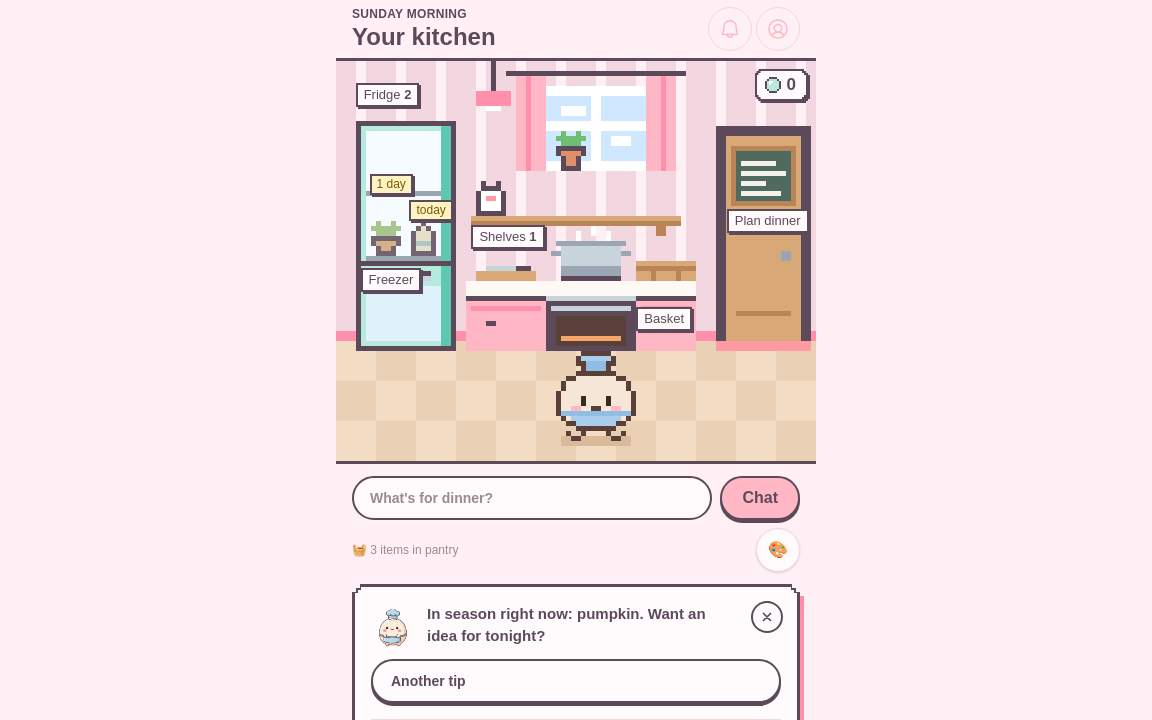
Test: "Used it" can be undone (#851) › without an undo, the write lands and the row stays gone
The image size is (1152, 720).
Click the button with aria-label "Fridge, 2 items".
click(406, 174)  # box [356,83,456,266]
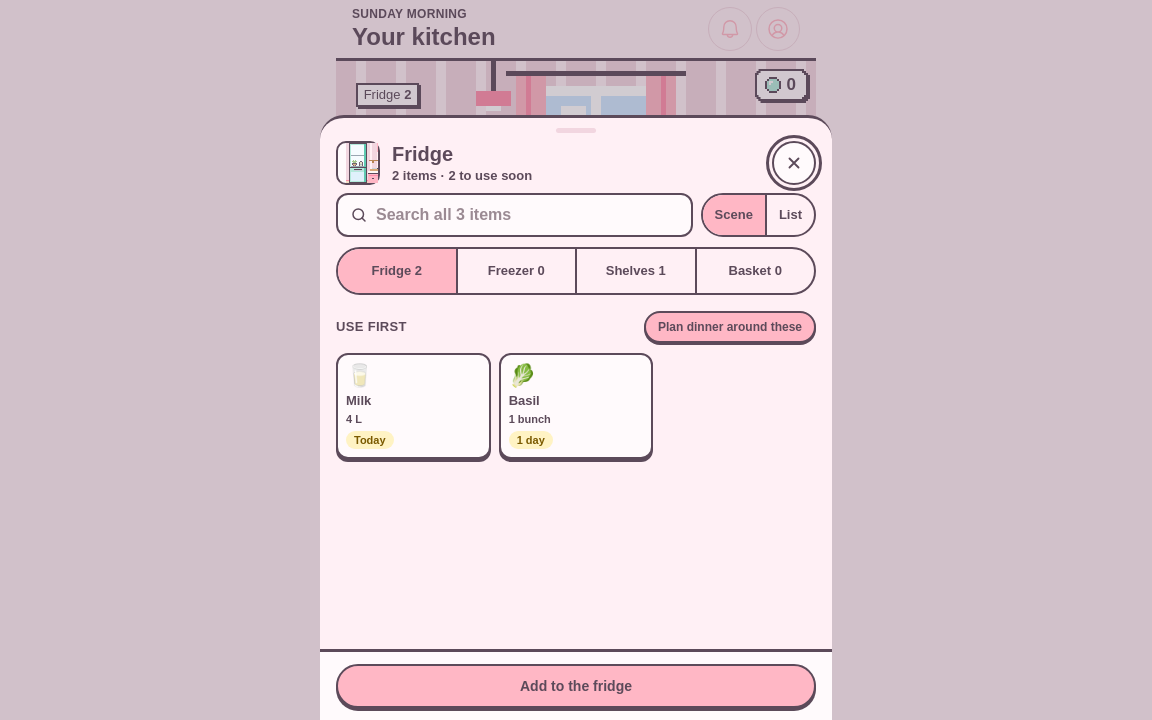
Click the button "List".
click(789, 215)  # box [765,195,814,235]
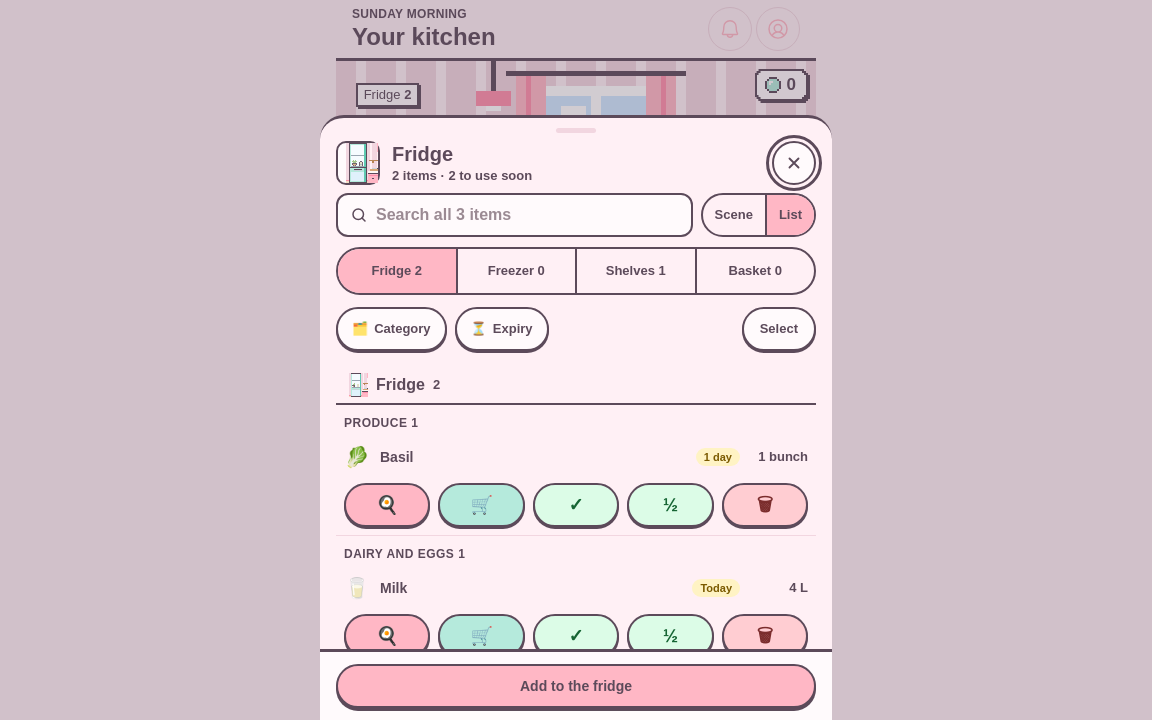
Click the button named "Mark basil as used up".
click(576, 505)  # box [533,483,619,527]
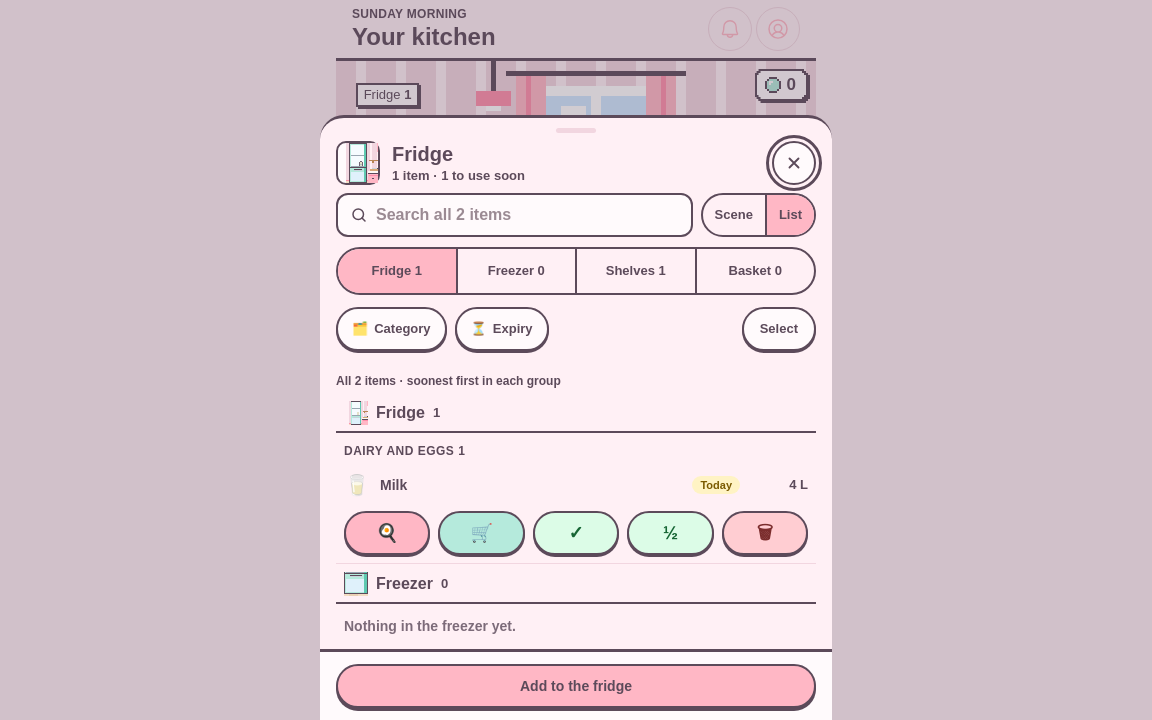
Check: the button "Basil" is gone
